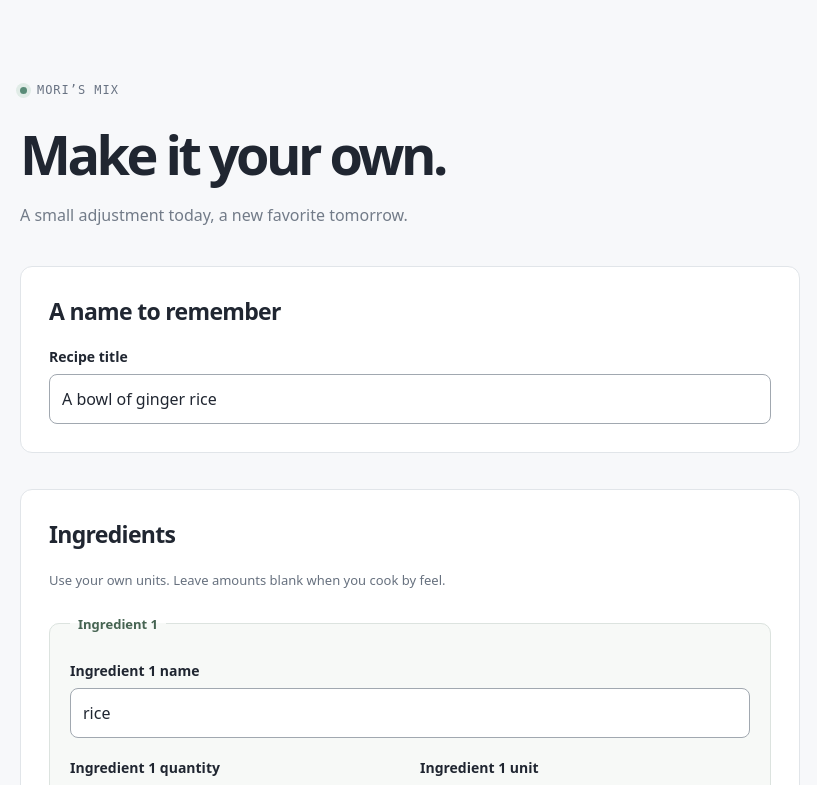
Test: submits edited values and a nullable rating only after the adapter confirms the same recipe
Replace the text in the field labelled "Recipe title" with "Updated rice" at [410, 399], box [49,374,771,424]
(page scrolled)
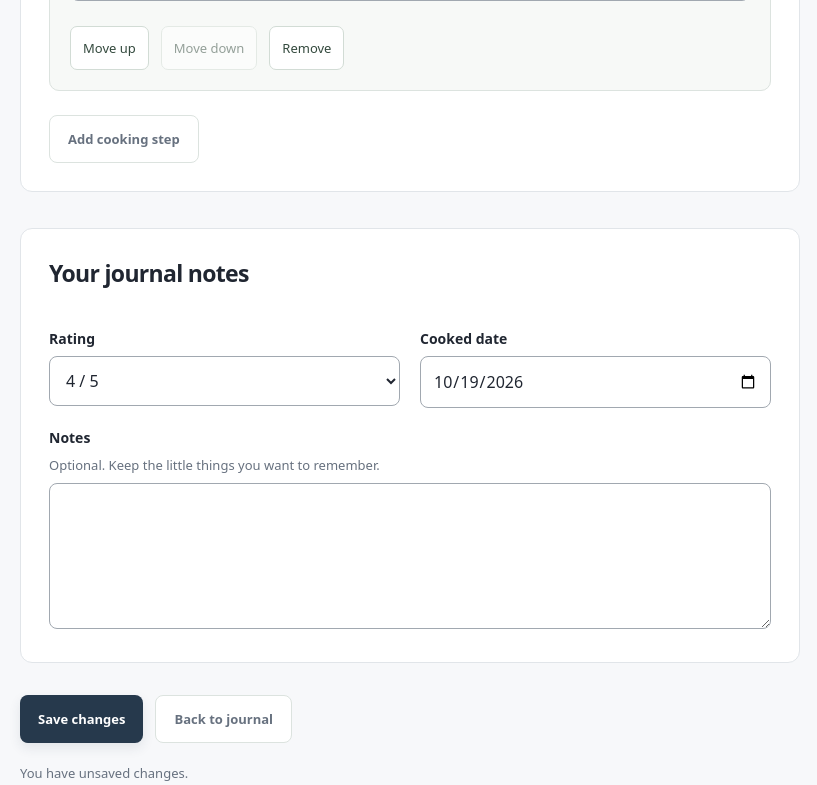
Select "Unrated" in the dropdown labelled "Rating" at [224, 380], box [49,356,400,406]
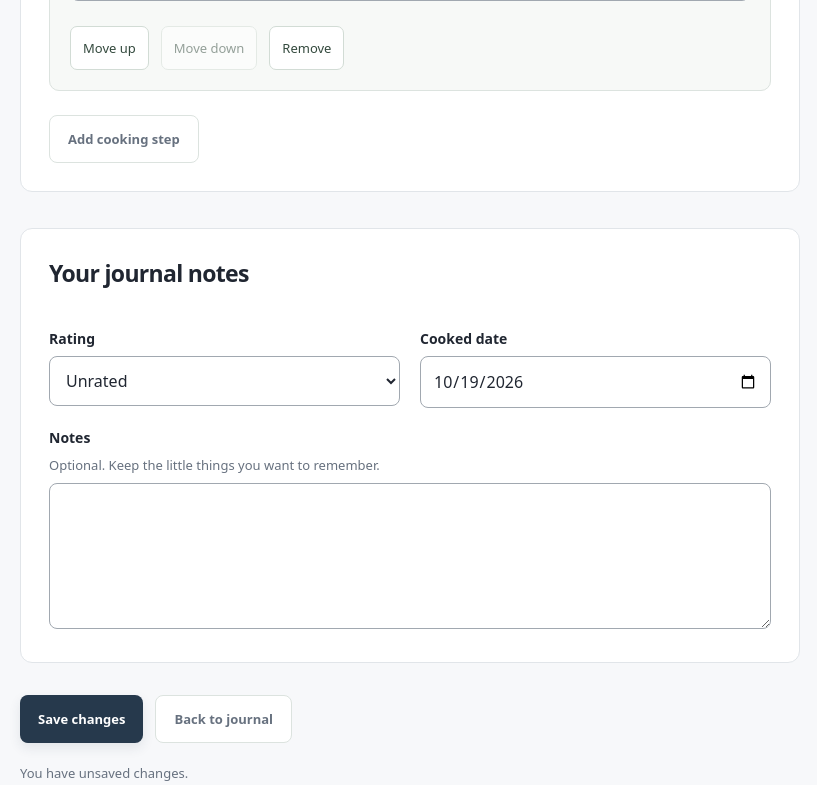
Click the button "Save changes" at [82, 719], box [20,695,144,743]
(page scrolled)
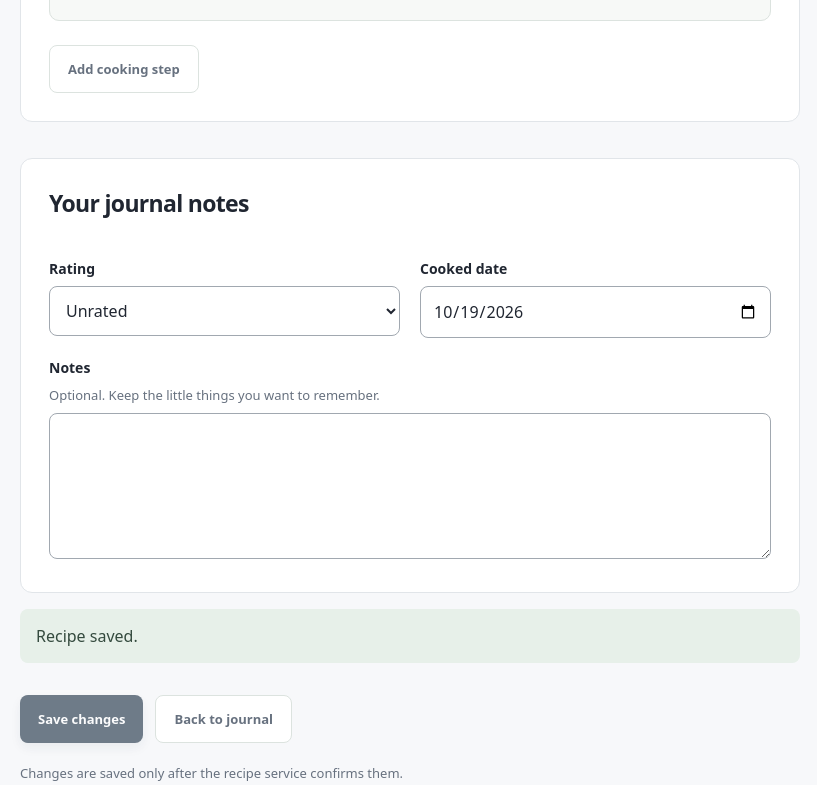
Result: the text "Recipe saved." is shown at [20,609,800,663]
